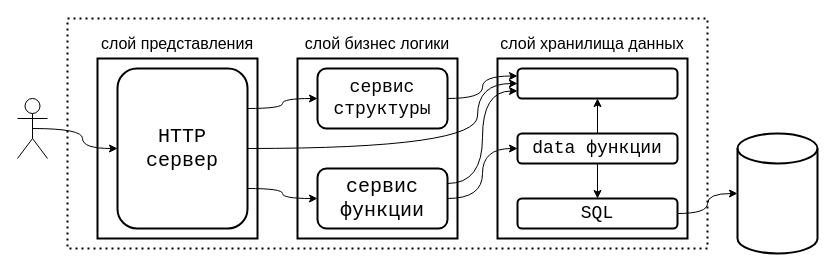
The diagram is 836 pixels wide and 271 high, and some of its shapes have lost their labels. The shapes that lost their labels are listed below. From the top down, each one's centre as x and y in pixels, then its label:
the point at 597,83: data структуры
the point at 32,128: Actor
the point at 777,193: база данных
